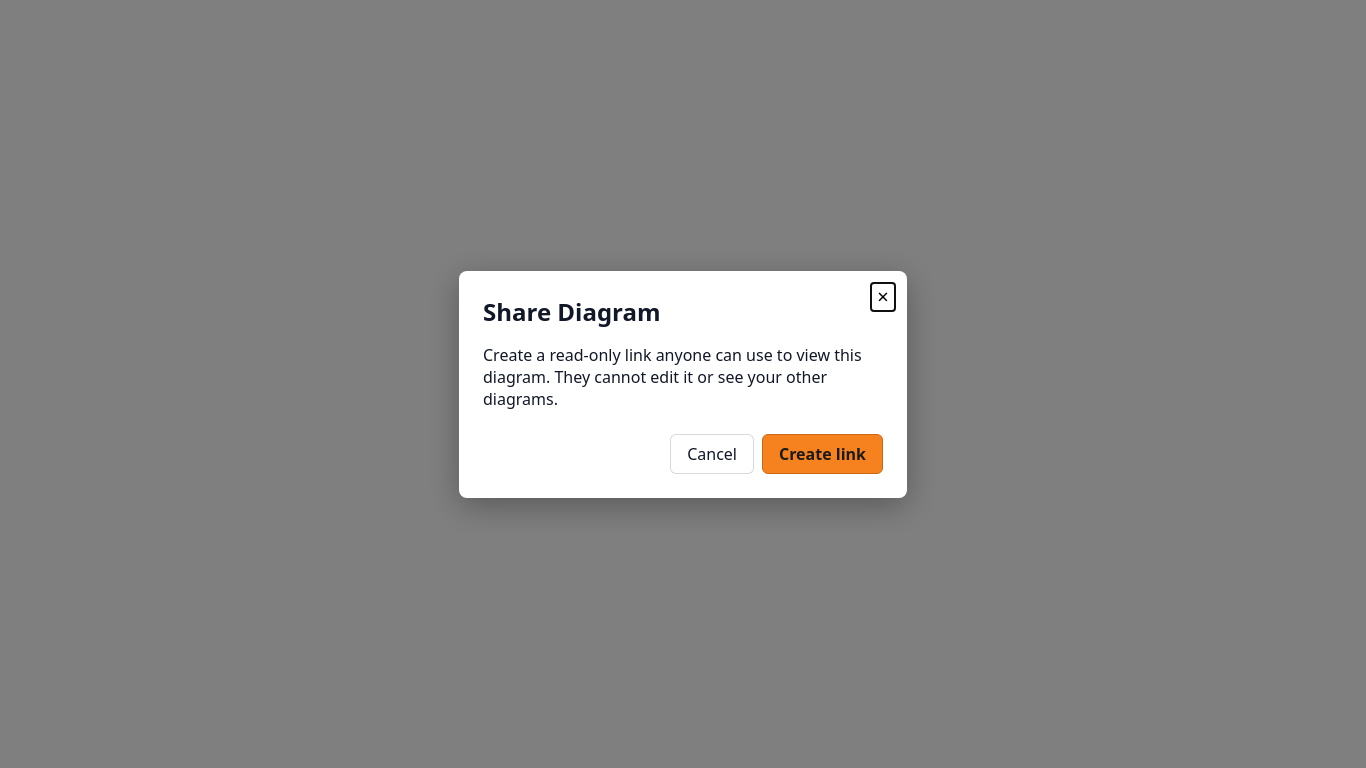
it: creating a link › reveals the URL exactly once, with a way to copy it
The image size is (1366, 768).
Click the button "Create link": (822, 454) [762,434,883,474]
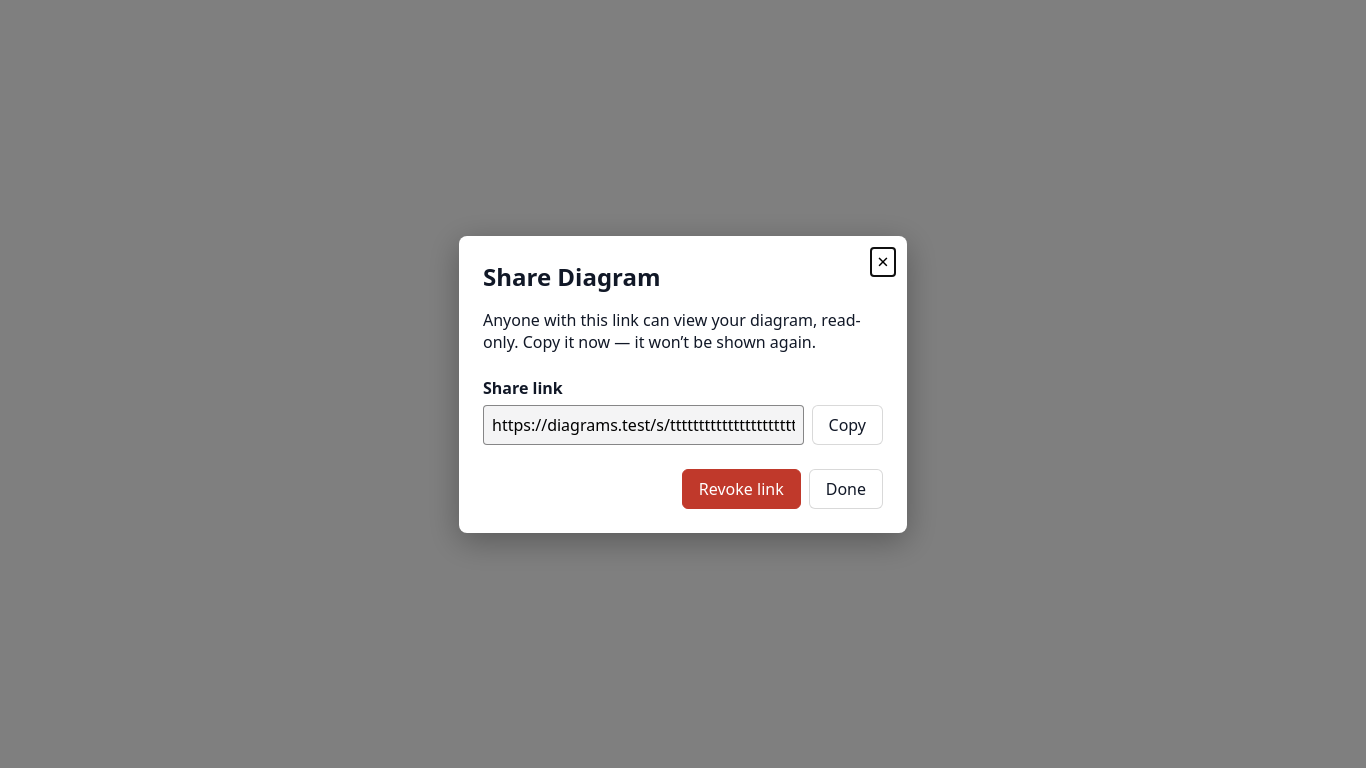
Expected: the text "won’t be shown again" is shown, [483,308,861,352]
